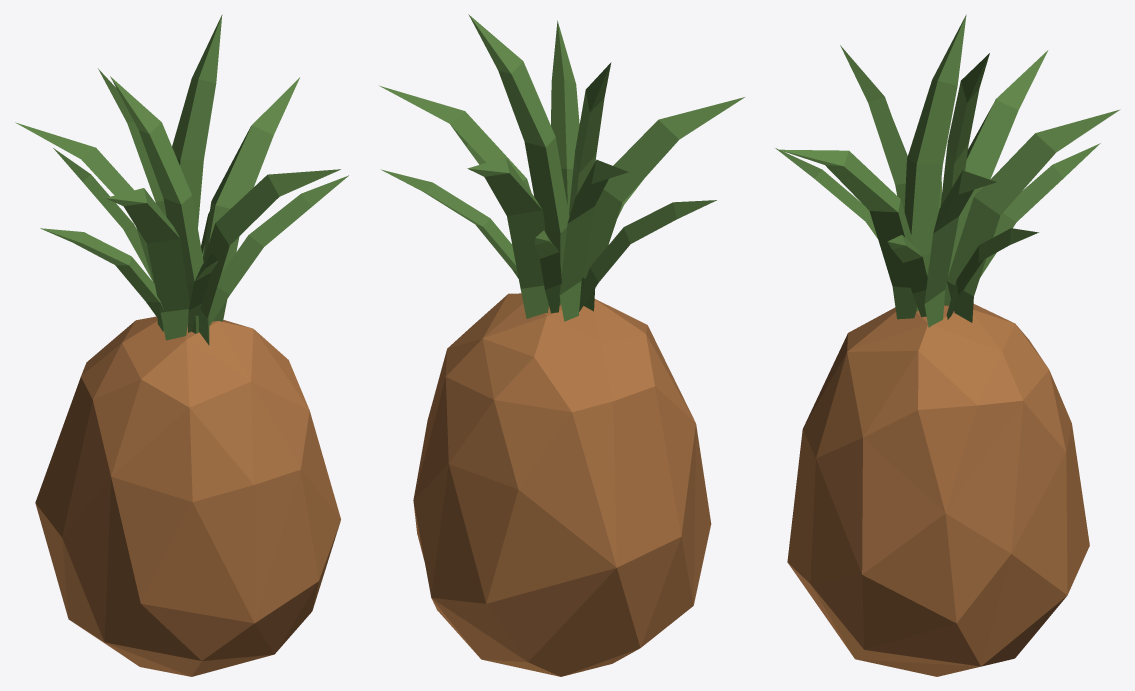
Rendered from Pineapple.glb.
3 views of the same model, side by side, from view 1: azimuth 30°, elevation 25°; view 2: azimuth 150°, elevation 25°; view 3: azimuth 270°, elevation 25° (orthographic). The views are drawn at different scales.
Parts seen in each view (by area): view 1: Pineapple; view 2: Pineapple; view 3: Pineapple.
Part boxes in pixels (<box>): Pineapple: <box>15,14,348,676</box>; Pineapple: <box>379,14,744,676</box>; Pineapple: <box>775,14,1120,676</box>.
Bounding box in the file's own units: 0.3585 × 0.7245 × 0.356.
Materials: 1 (1 with a texture image).
